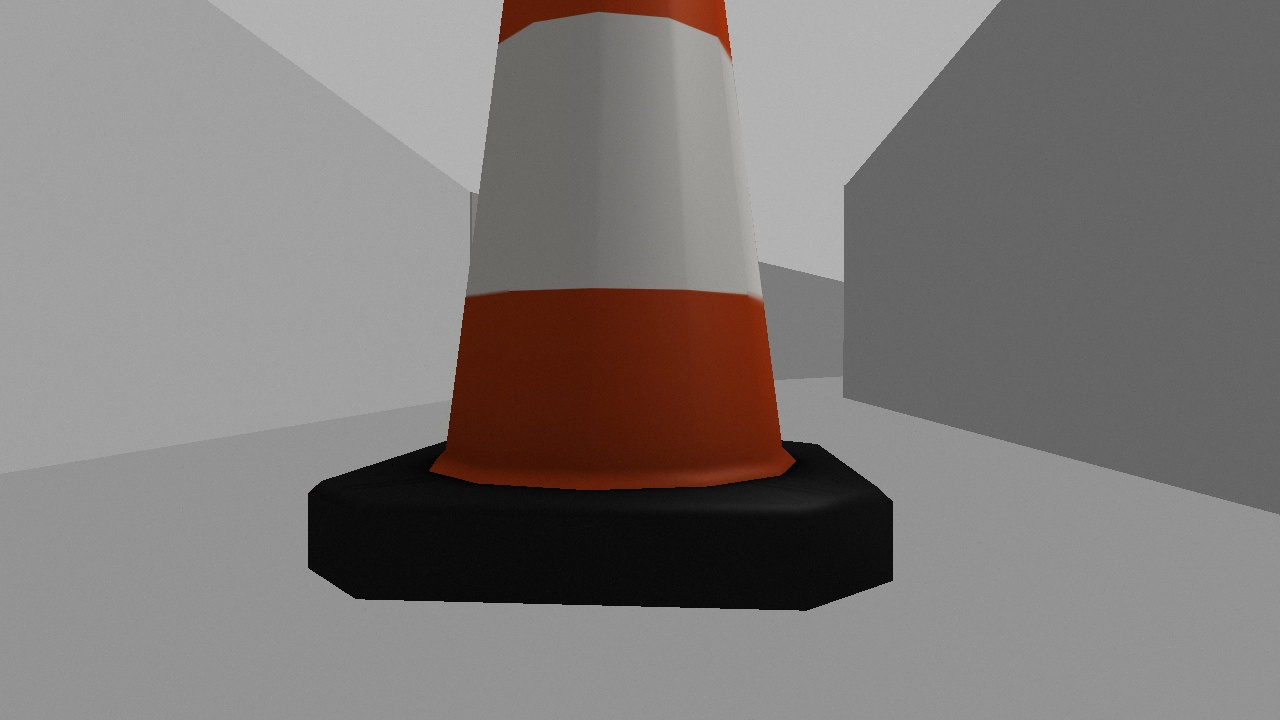barricade: (260, 1, 937, 645)
